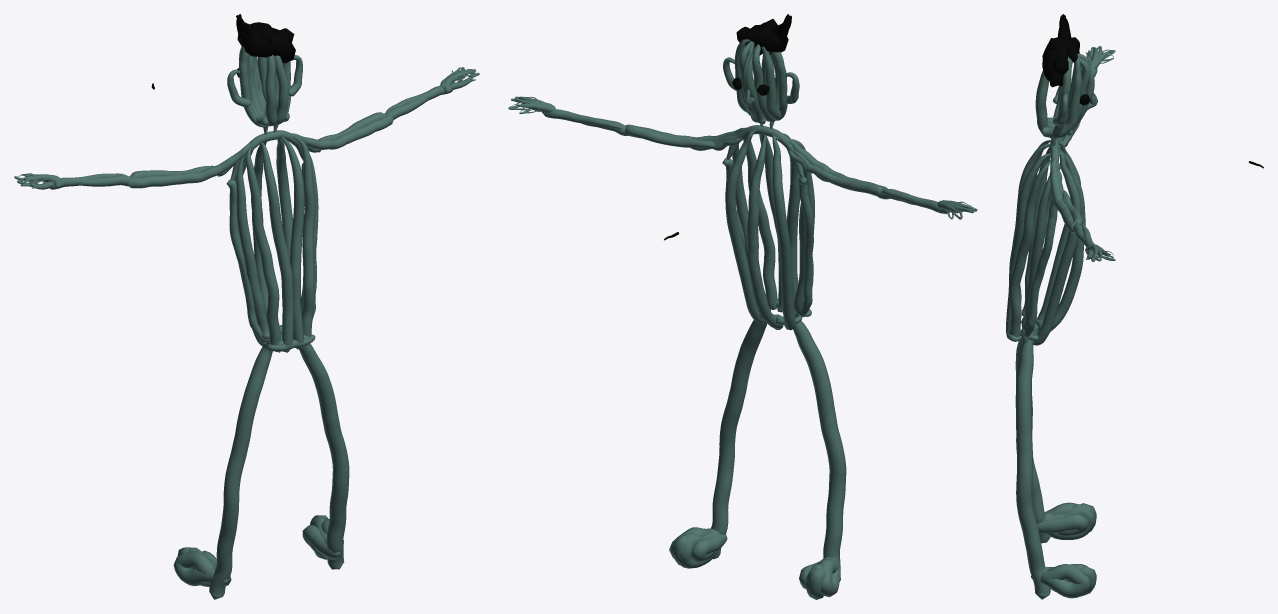
3 views of the same model, side by side, from view 1: azimuth 30°, elevation 25°; view 2: azimuth 150°, elevation 25°; view 3: azimuth 270°, elevation 25° (orthographic). The views are drawn at different scales.
Visible parts, largest first — view 1: Untitled_15_Toon_geo; view 2: Untitled_15_Toon_geo; view 3: Untitled_15_Toon_geo.
Part boxes in pixels (left/top/right/bottom): Untitled_15_Toon_geo: left=14, top=14, right=479, bottom=599; Untitled_15_Toon_geo: left=508, top=14, right=977, bottom=599; Untitled_15_Toon_geo: left=1006, top=14, right=1263, bottom=599.
Bounding box in the file's own units: 1.52 × 1.8 × 0.7744.
